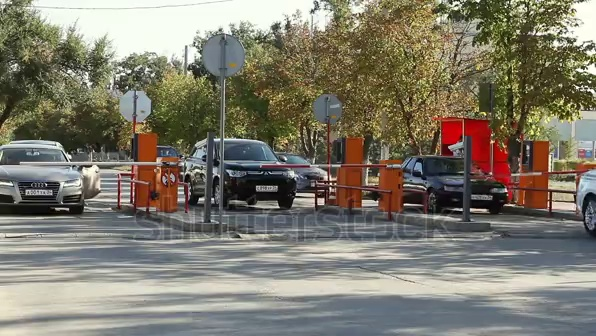licenseplate: (19, 186, 54, 201), (254, 179, 280, 196), (470, 192, 494, 204)
